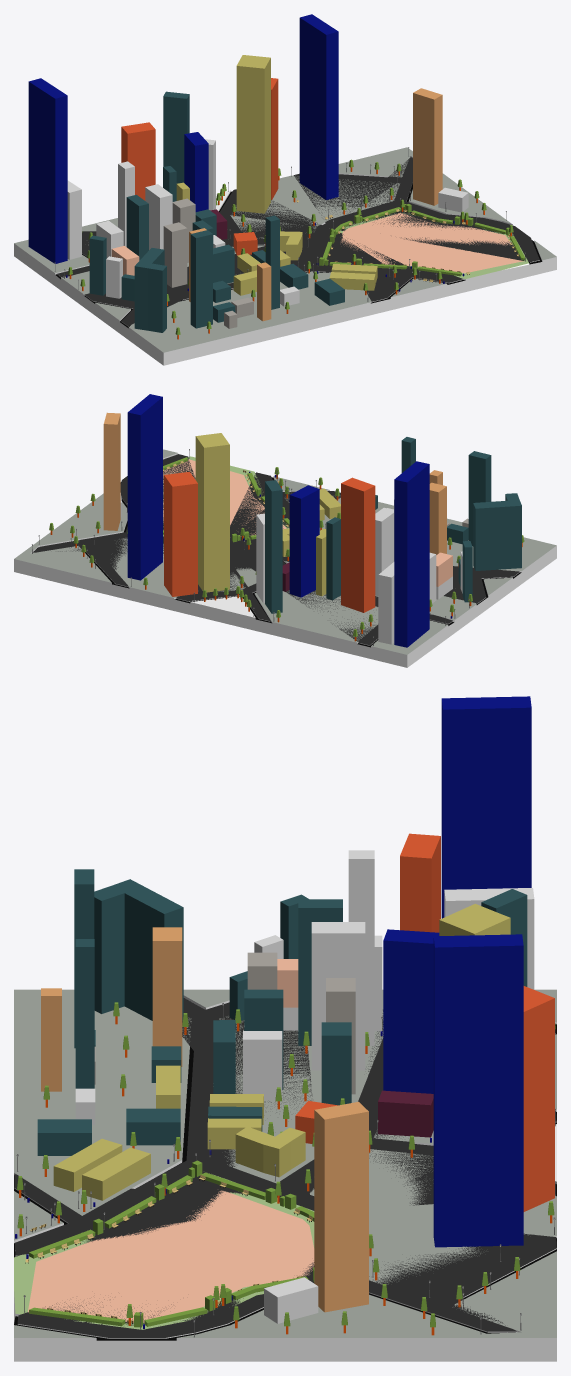
File: City_with_AmusementPark2.fbx
The picture shows the model from 3 angles, top to bottom: view 1: azimuth 30°, elevation 25°; view 2: azimuth 150°, elevation 25°; view 3: azimuth 270°, elevation 25°; orthographic projection. The views are drawn at different scales.
Visible parts, largest first — view 1: Cube.047, Cube.034, Cube.048, Cube.044, Cube.045, Cube.011, Cube, Cube.042, Cube.036, Cube.038, Cube.019, Cube.028 (+20 smaller); view 2: Cube.047, Cube.034, Cube.048, Cube.044, Cube.036, Cube.043, Cube.011, Cube.038, Cube.042, Cube.045, Cube, Cube.035 (+11 smaller); view 3: Cube.047, Cube.048, Cube.034, Cube.045, Cube.011, Cube.038, Cube.043, Cube.028, Cube.036, Cube.004, Cube.026, Cube.007 (+24 smaller).
Boxes of the visible parts, x1,y1,x2,y2 form: Cube.047: [14, 147, 556, 365]; Cube.034: [28, 78, 67, 263]; Cube.048: [299, 14, 338, 199]; Cube.044: [236, 55, 270, 213]; Cube.045: [413, 88, 442, 205]; Cube.011: [134, 248, 166, 332]; Cube: [190, 230, 212, 328]; Cube.042: [163, 91, 189, 183]; Cube.036: [121, 122, 155, 200]; Cube.038: [184, 132, 208, 211]; Cube.019: [163, 222, 187, 287]; Cube.028: [145, 184, 172, 249]; Cube.047: [14, 449, 556, 667]; Cube.034: [394, 461, 429, 647]; Cube.048: [127, 394, 162, 580]; Cube.044: [195, 433, 229, 592]; Cube.036: [341, 477, 375, 612]; Cube.043: [164, 472, 197, 596]; Cube.011: [473, 493, 521, 570]; Cube.038: [289, 485, 319, 597]; Cube.042: [265, 480, 282, 613]; Cube.045: [103, 412, 120, 530]; Cube: [468, 451, 491, 546]; Cube.035: [378, 562, 394, 644]; Cube.047: [14, 989, 556, 1361]; Cube.048: [433, 934, 523, 1247]; Cube.034: [441, 696, 531, 918]; Cube.045: [314, 1101, 368, 1312]; Cube.011: [94, 879, 183, 1020]; Cube.038: [383, 929, 439, 1093]; Cube.043: [523, 986, 554, 1211]; Cube.028: [311, 922, 365, 1070]; Cube.036: [400, 833, 440, 932]; Cube.004: [152, 927, 182, 1066]; Cube.026: [348, 850, 374, 1045]; Cube.007: [75, 939, 94, 1088].
Size of the model in its own units: 3406 by 1475 by 2245.
